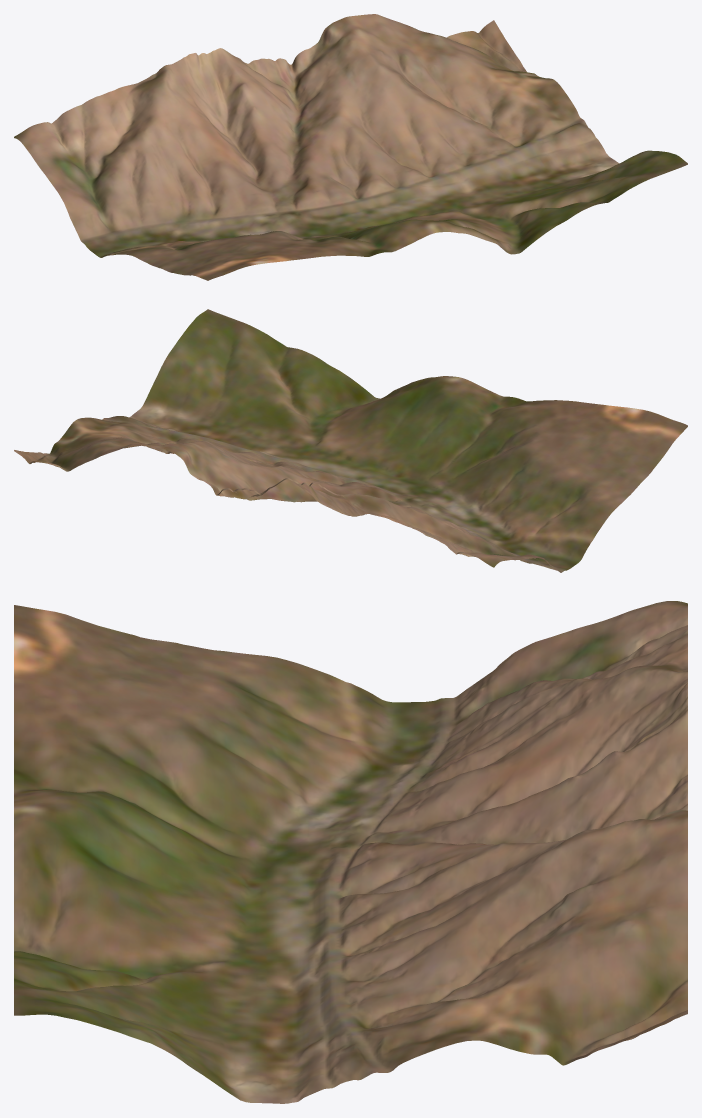
File: terrain_r0_c2.glb
3 renders of one model, top to bottom at view 1: azimuth 30°, elevation 25°; view 2: azimuth 150°, elevation 25°; view 3: azimuth 270°, elevation 25°, orthographic. The views are drawn at different scales.
Visible parts, largest first — view 1: terrain_r0_c2_lod0; view 2: terrain_r0_c2_lod0; view 3: terrain_r0_c2_lod0.
Part boxes in pixels (x1,y1,x2,y2): terrain_r0_c2_lod0: (14, 14, 687, 280); terrain_r0_c2_lod0: (14, 309, 687, 572); terrain_r0_c2_lod0: (14, 601, 687, 1103).
Size of the model in its own units: 1125 by 220 by 787.
1 material, 1 textured.
